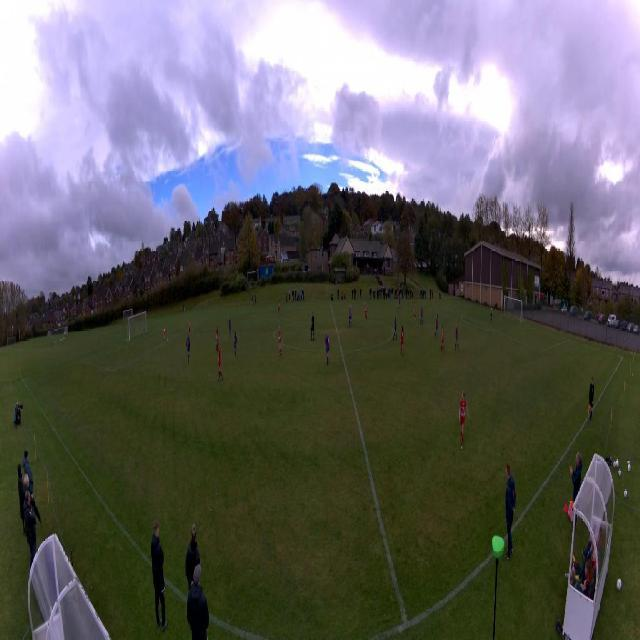ball: (167, 337, 168, 341)
player: (459, 390, 470, 451), (218, 342, 224, 381), (324, 331, 330, 366), (310, 312, 315, 340), (454, 323, 459, 350), (392, 316, 397, 341), (278, 326, 282, 357), (434, 315, 439, 339), (186, 334, 190, 363), (441, 325, 445, 352), (233, 332, 237, 359), (215, 326, 219, 352), (348, 305, 352, 327), (401, 326, 404, 355), (413, 301, 417, 320), (229, 317, 232, 339), (365, 302, 368, 321), (420, 306, 423, 325), (277, 300, 280, 317), (398, 294, 401, 311), (188, 319, 190, 340), (163, 329, 166, 341), (490, 306, 492, 323)
